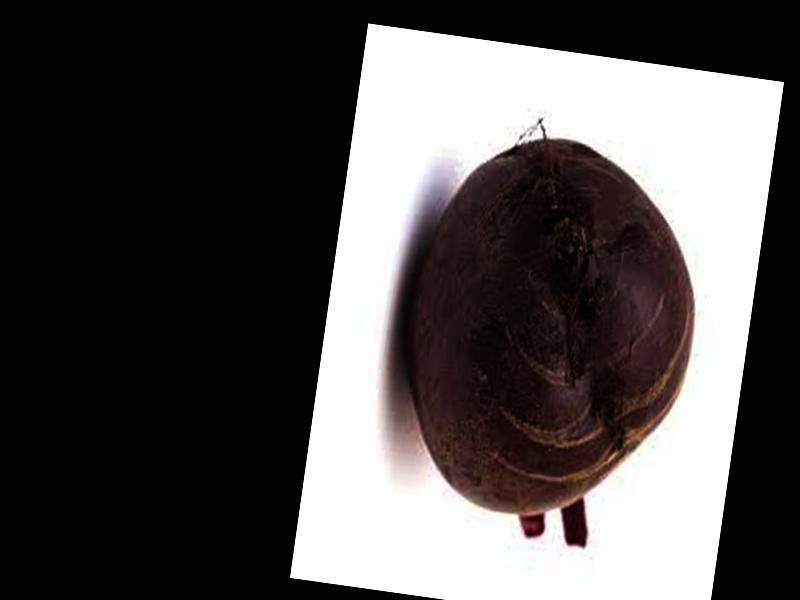Beet: (375, 119, 719, 554)
